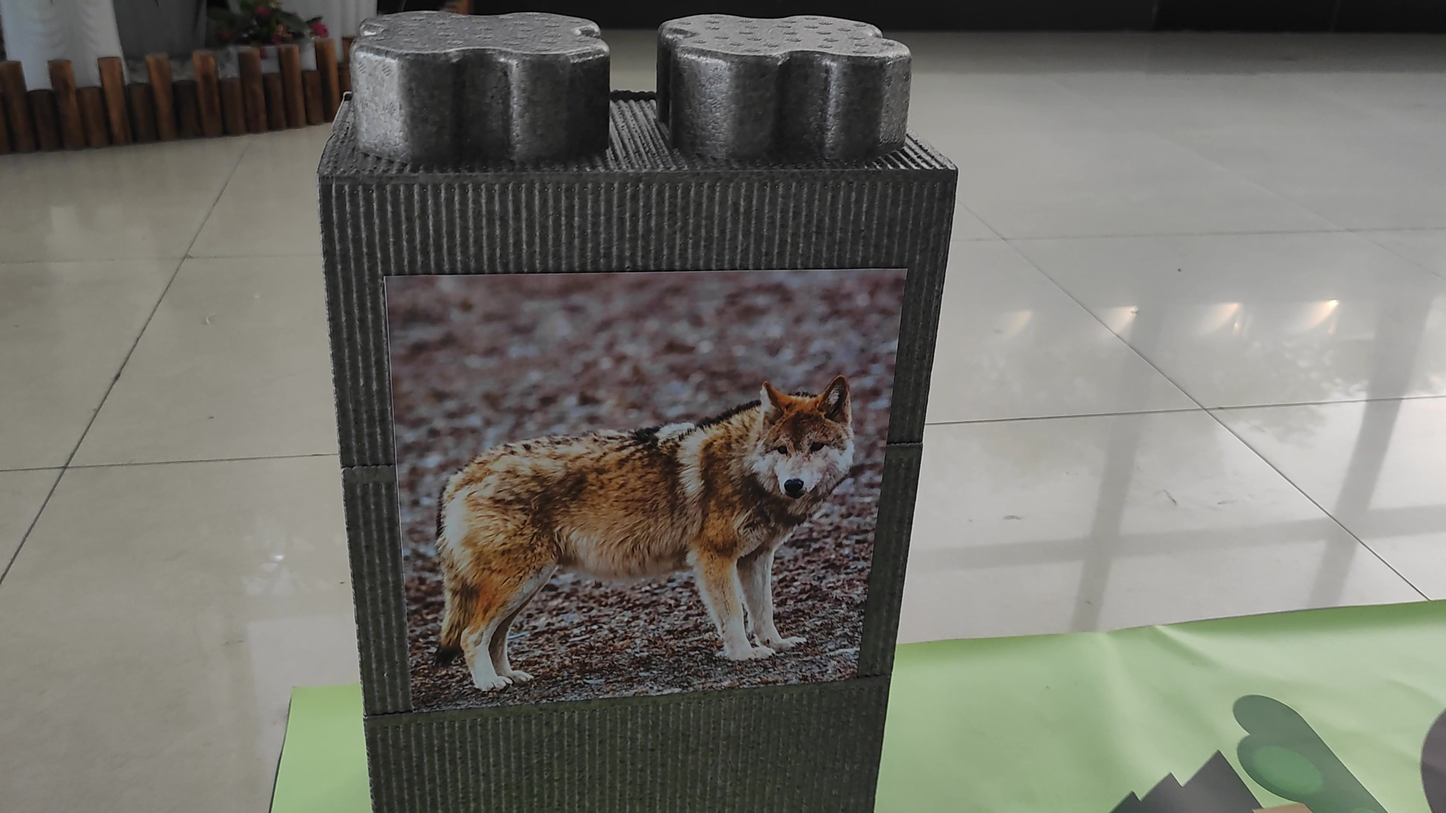wolf: (408, 342, 859, 697)
